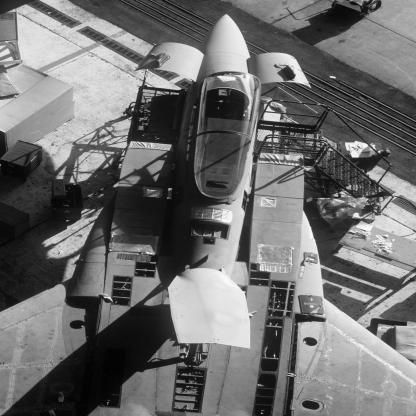F15: (1, 15, 416, 416)
